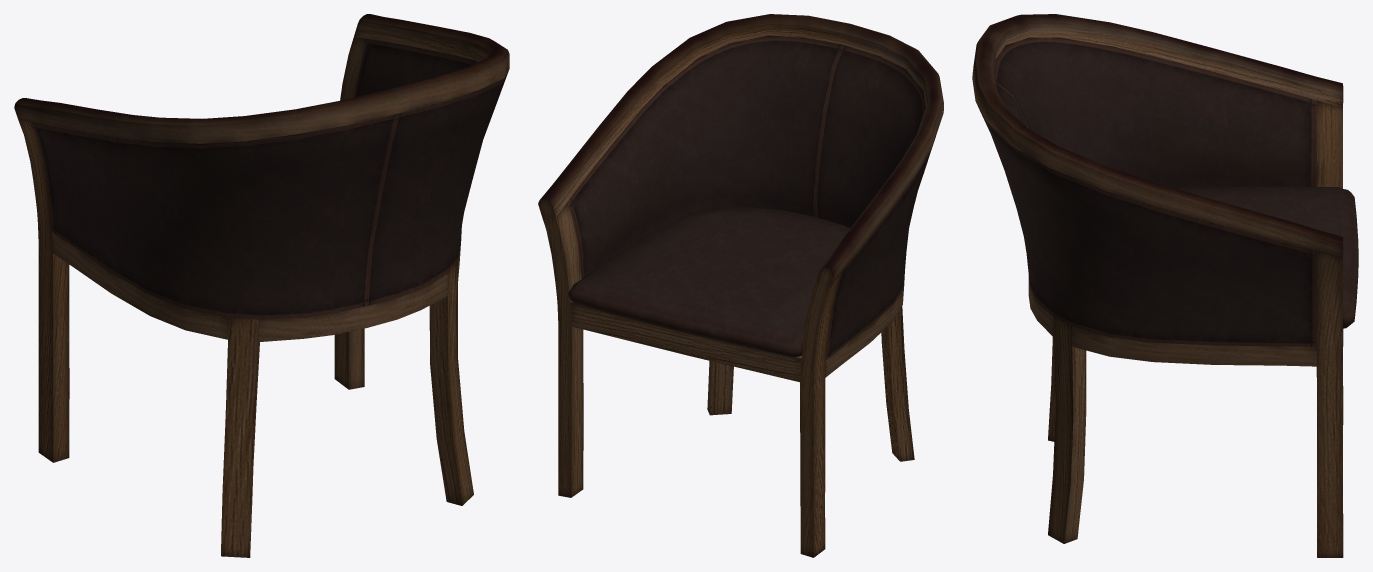
3 renders of one model, left to right at view 1: azimuth 30°, elevation 25°; view 2: azimuth 150°, elevation 25°; view 3: azimuth 270°, elevation 25°, orthographic. The views are drawn at different scales.
Visible parts, largest first — view 1: rest_chair_low (×2); view 2: rest_chair_low (×2); view 3: rest_chair_low (×2).
Part boxes in pixels (left/top/right/bottom): rest_chair_low (×2): left=14, top=14, right=509, bottom=557; rest_chair_low (×2): left=538, top=14, right=943, bottom=557; rest_chair_low (×2): left=972, top=14, right=1358, bottom=557.
Size of the model in its own units: 1.61 by 2 by 1.63.
Materials: 2 (2 with a texture image).
